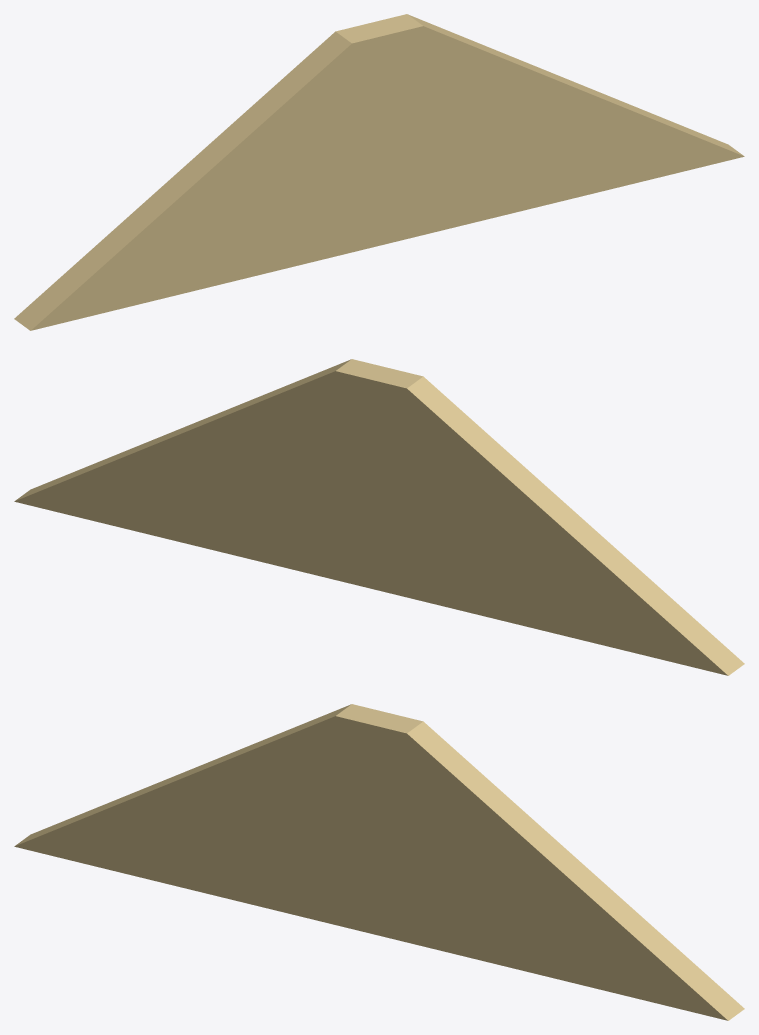
Rendered from GarageWall03_house4.fbx.
3 views of the same model, one above another, from view 1: azimuth 30°, elevation 25°; view 2: azimuth 150°, elevation 25°; view 3: azimuth 330°, elevation 25° (orthographic).
Parts seen in each view (by area): view 1: GarageWall03_house4; view 2: GarageWall03_house4; view 3: GarageWall03_house4.
Boxes of the visible parts, left/top/right/bottom form: GarageWall03_house4: left=14, top=14, right=744, bottom=330; GarageWall03_house4: left=14, top=359, right=744, bottom=675; GarageWall03_house4: left=14, top=704, right=744, bottom=1020.
Bounding box in the file's own units: 716 × 200 × 28.6.
